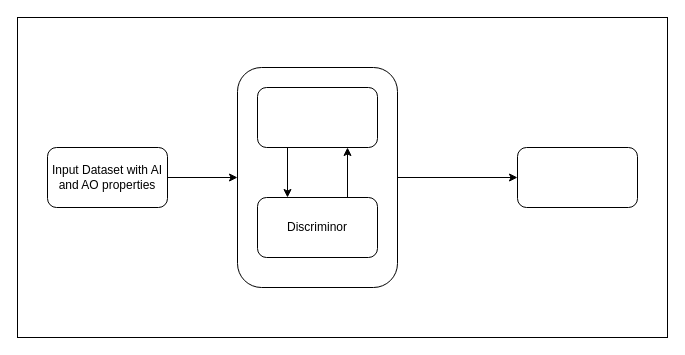
Image size: 685x355. Some labels were removed from this diagram. The box of each missing label's shape, as (x1, y1, x2, y2) in pixels:
Enhanced Output Dataset: (516, 146, 638, 208)
Generator: (256, 86, 378, 148)
